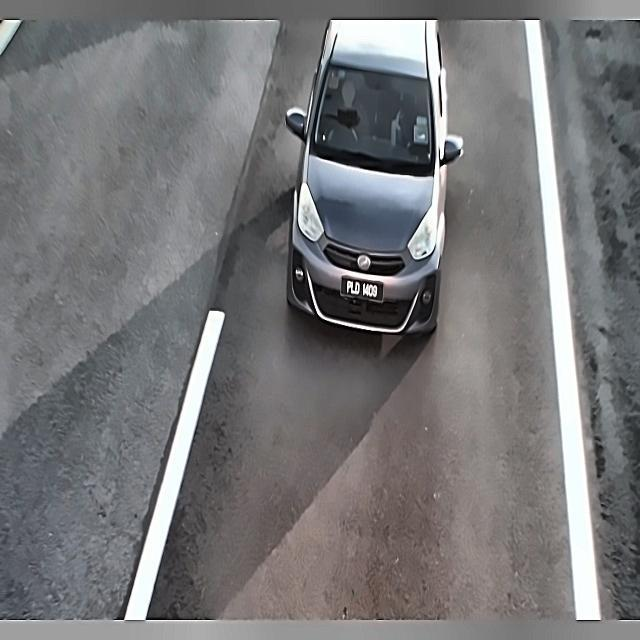car: (339, 271, 386, 307)
